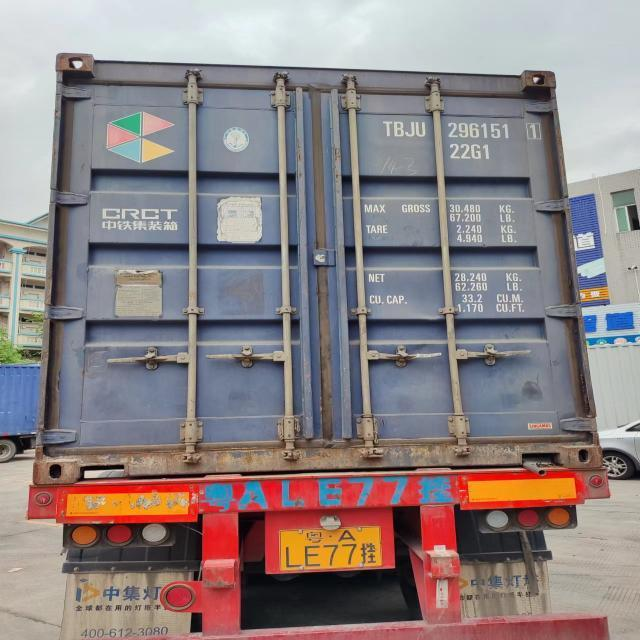ISO: (452, 142, 492, 162)
container_number: (384, 122, 541, 142)
